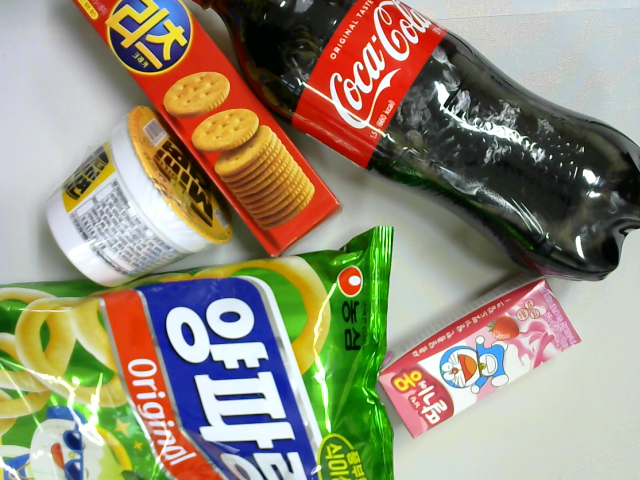Coca_Cola_1.5L: (184, 4, 639, 289)
Hejangmini: (45, 101, 235, 293)
Oninon_Ring: (1, 222, 414, 477)
Ritz_Cracker: (70, 1, 343, 261)
Strawberry_E_Mong: (366, 267, 584, 441)
